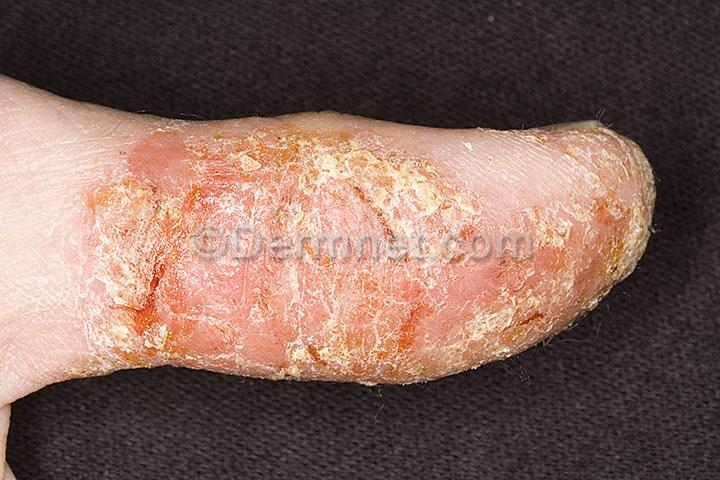Eczema: (112, 120, 471, 229), (202, 265, 420, 383), (69, 240, 187, 367), (544, 142, 662, 255), (439, 262, 520, 362), (531, 266, 627, 341)
